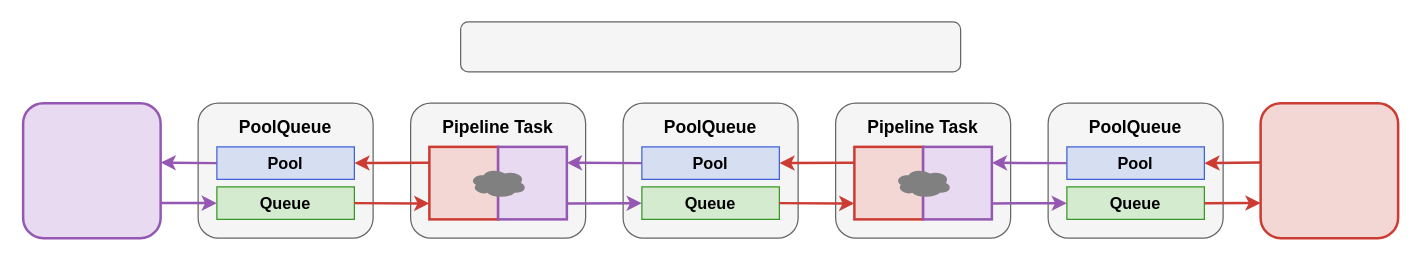
Some shapes in this 1420 by 261 pixel diagram are drawn without their labels. The box of each missing label's shape, as (x1, y1, x2, y2) in pixels:
Consumer Task: (1259, 101, 1399, 239)
Producer Task: (21, 101, 161, 239)
Three PoolQueue Pipeline: (459, 21, 961, 72)
